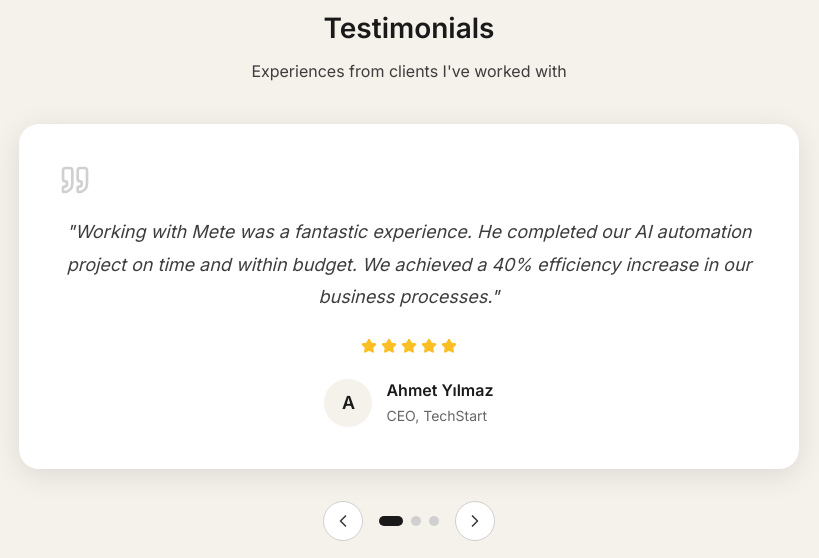
Testimonials › navigation › navigates to next testimonial
What coordinates should you click on to do the following:
click the button named "Next testimonial"
I would click on:
 (475, 521)
Its box is [455,501,495,541].
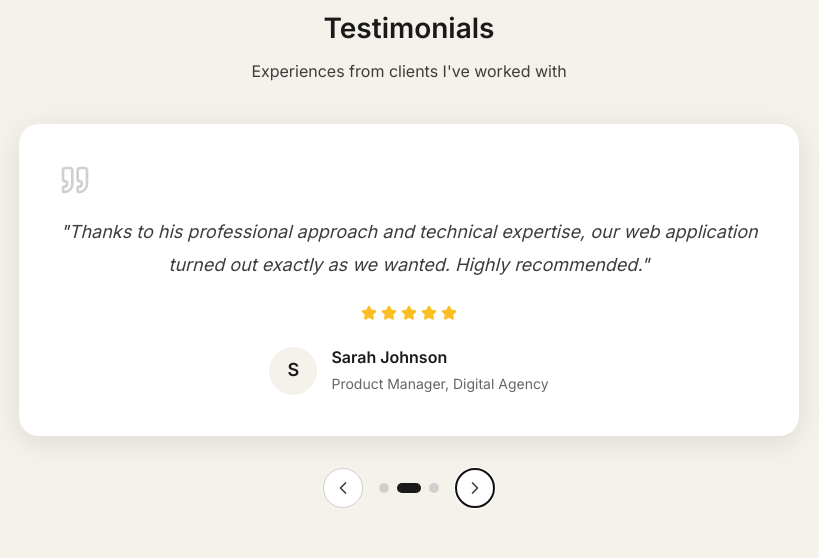
Check: the text "Sarah Johnson" is shown, box [331,347,447,367]
